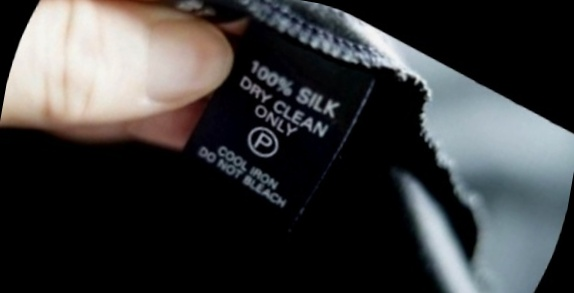dry_clean_any_solvent_except_trichloroethylene: (236, 114, 294, 170)
